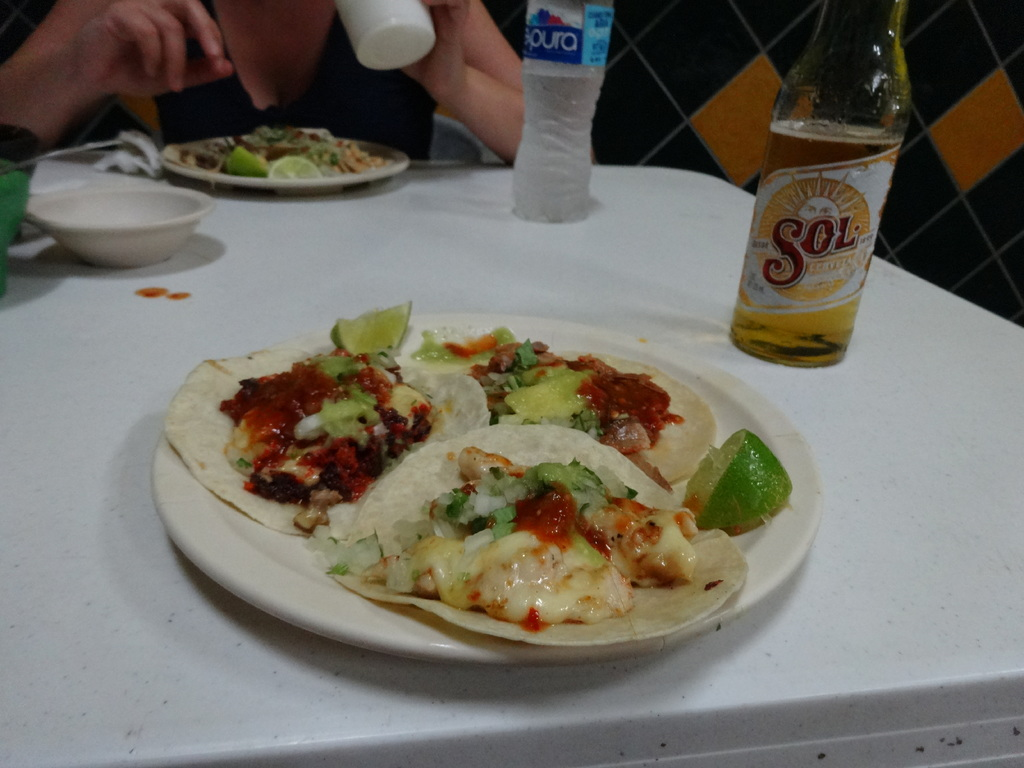taco: (174, 338, 497, 563), (184, 120, 374, 191)
